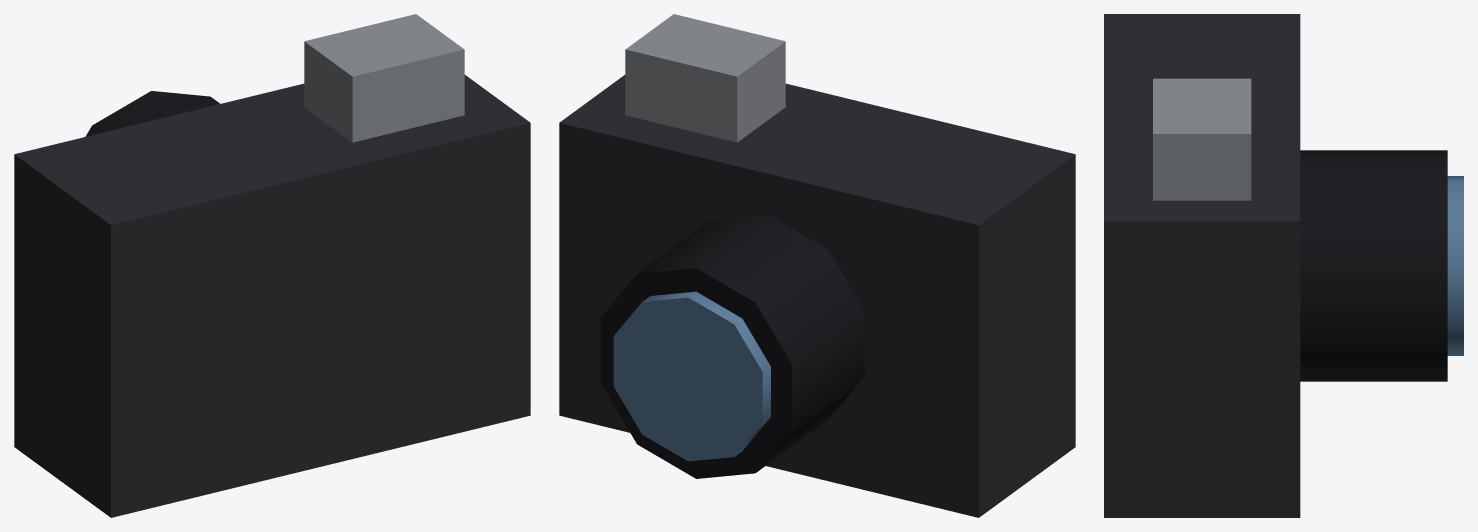
Rendered from tool-camera.glb.
3 views of the same model, side by side, from view 1: azimuth 30°, elevation 25°; view 2: azimuth 150°, elevation 25°; view 3: azimuth 270°, elevation 25° (orthographic).
Parts seen in each view (by area): view 1: 00_#2a2a2e_noshadow_r110, 03_#8a8e92_noshadow_r110, 01_#16161a_noshadow_r110; view 2: 00_#2a2a2e_noshadow_r110, 01_#16161a_noshadow_r110, 02_#5a7a9a_noshadow_r110, 03_#8a8e92_noshadow_r110; view 3: 00_#2a2a2e_noshadow_r110, 01_#16161a_noshadow_r110, 03_#8a8e92_noshadow_r110, 02_#5a7a9a_noshadow_r110.
Part boxes in pixels (x1,y1,x2,y2): 00_#2a2a2e_noshadow_r110: (14, 75, 530, 517); 03_#8a8e92_noshadow_r110: (304, 14, 464, 142); 01_#16161a_noshadow_r110: (85, 91, 219, 136); 00_#2a2a2e_noshadow_r110: (559, 75, 1075, 517); 01_#16161a_noshadow_r110: (600, 215, 864, 478); 02_#5a7a9a_noshadow_r110: (613, 291, 770, 461); 03_#8a8e92_noshadow_r110: (625, 14, 785, 142); 00_#2a2a2e_noshadow_r110: (1104, 14, 1300, 517); 01_#16161a_noshadow_r110: (1300, 150, 1447, 381); 03_#8a8e92_noshadow_r110: (1153, 78, 1251, 200); 02_#5a7a9a_noshadow_r110: (1447, 176, 1463, 355).
Size of the model in its own units: 0.15 by 0.1225 by 0.11.
